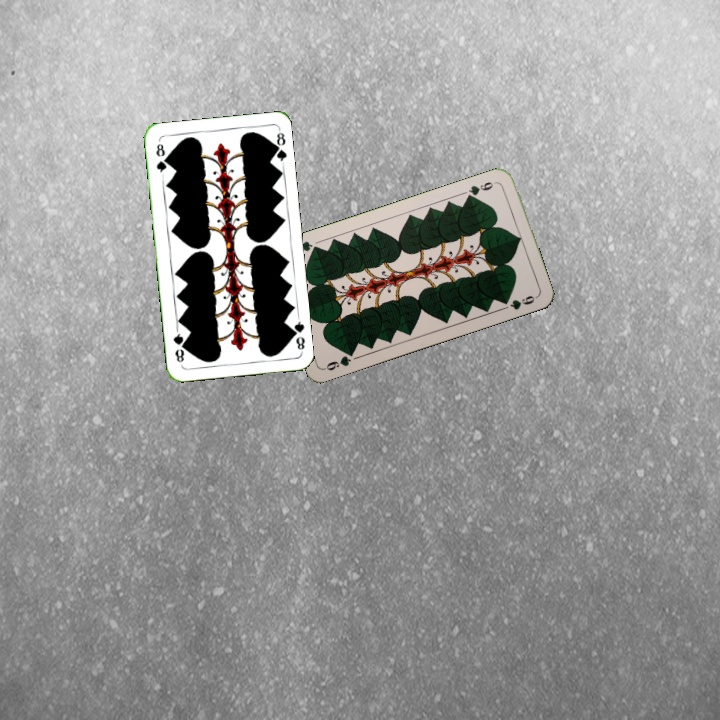G8: (287, 313, 307, 354), (152, 140, 169, 178)
G9: (321, 346, 357, 373), (462, 177, 500, 202)
